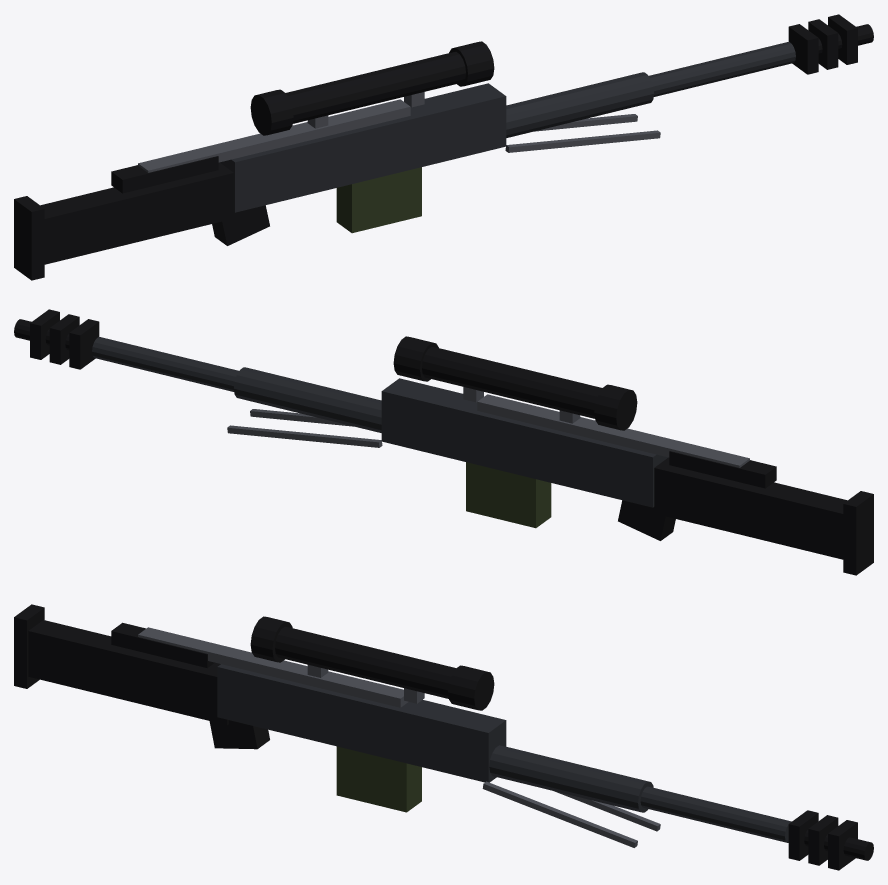
The model's file is Barrett.obj.
The picture shows the model from 3 angles, top to bottom: view 1: azimuth 30°, elevation 25°; view 2: azimuth 150°, elevation 25°; view 3: azimuth 330°, elevation 25°; orthographic projection.
Parts seen in each view (by area): view 1: Cube; view 2: Cube; view 3: Cube.
Boxes of the visible parts, x1,y1,x2,y2 form: Cube: [14, 14, 873, 280]; Cube: [14, 309, 873, 575]; Cube: [14, 604, 873, 870].
Bounding box in the file's own units: 1.94 × 0.3309 × 0.102.
